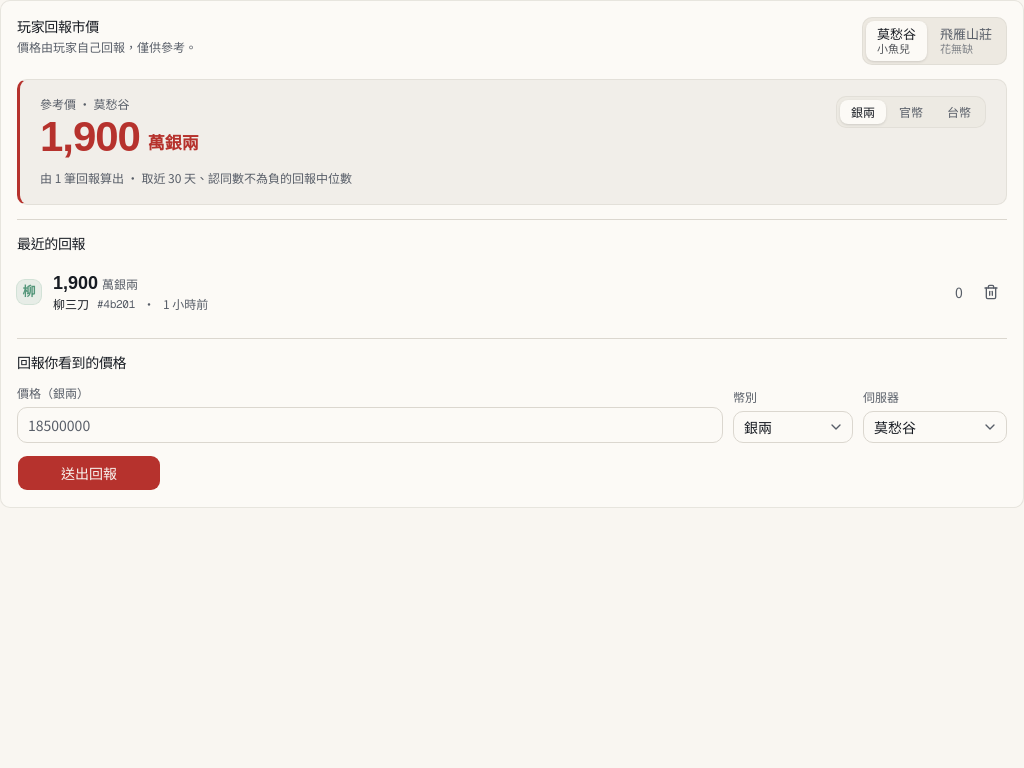
Test: MarketPriceSection › 只有自己的回報給刪除鈕，確認後才真的打 DELETE
This screenshot has width=1024, height=768.
Click the button named "刪除我的回報". click: (991, 292)
box: [975,276,1007,308]
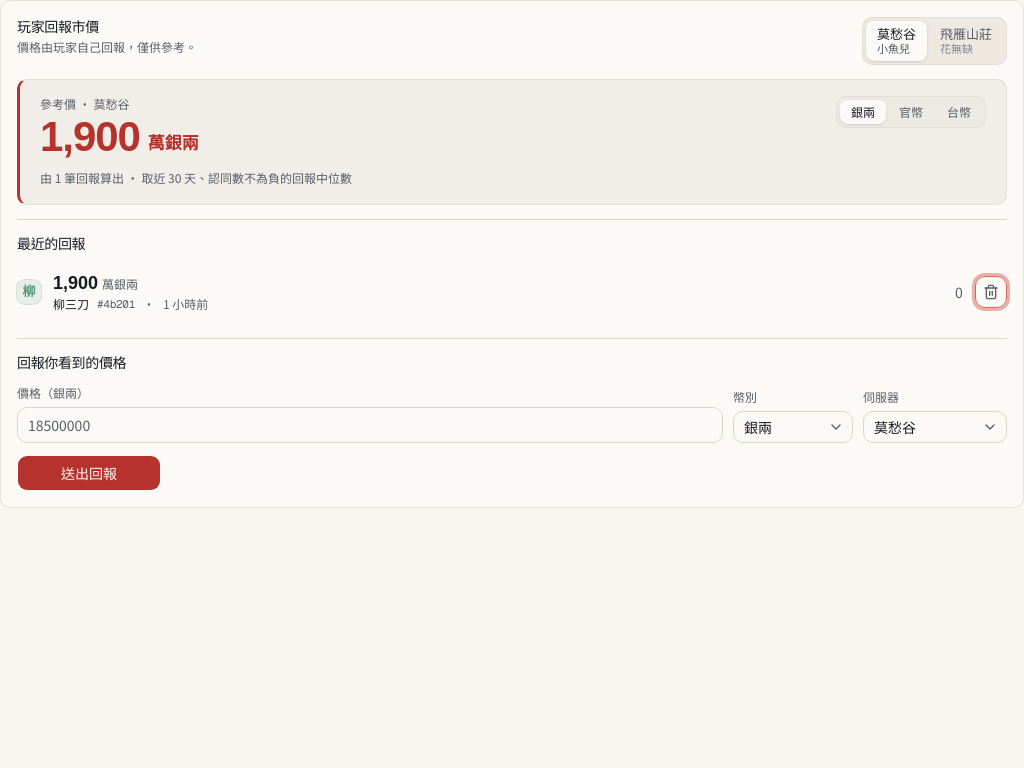
Click the button named "刪除我的回報". click: (991, 292)
box: [975,276,1007,308]
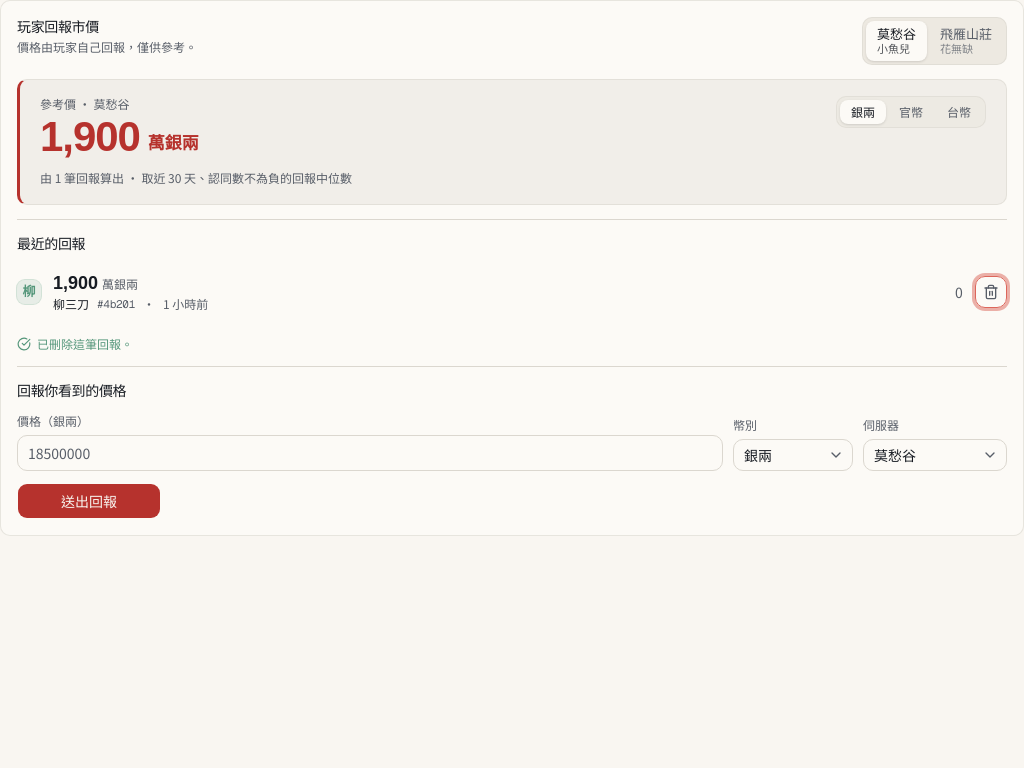
expect the text "已刪除這筆回報。" is shown: met, box [17,335,133,352]
